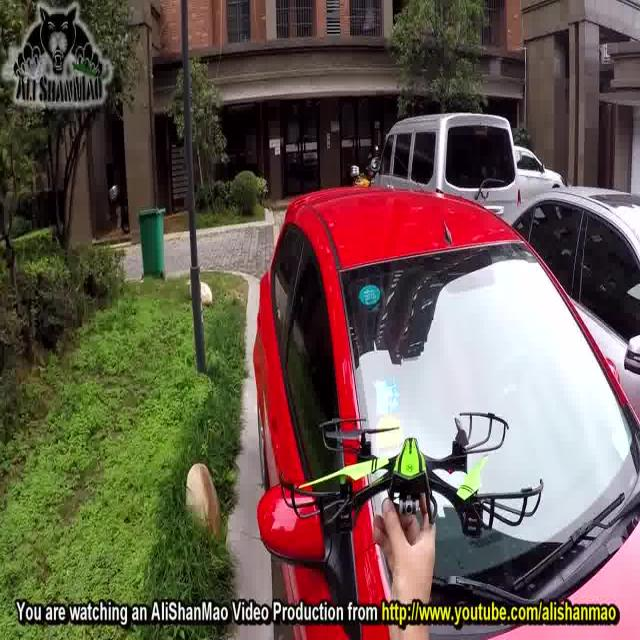Drone_FW: (277, 410, 545, 538)
